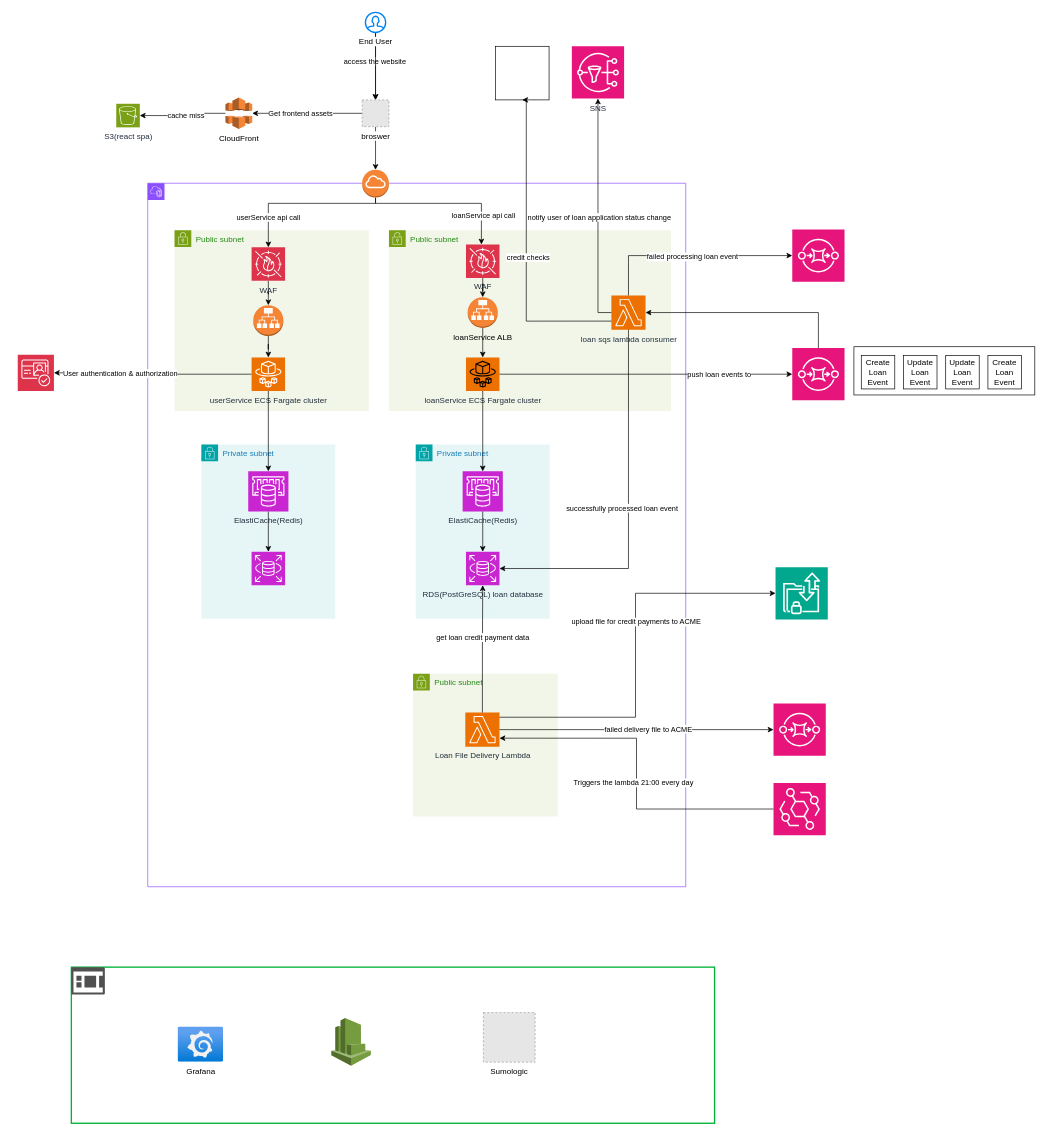
Image size: 1047x1135. Some labels were removed from this diagram. Grey dashed boxes stand in for pictures. Each missing label, with the box of its shape:
ACME API: (495, 46, 549, 100)
ACME SFTP server: (775, 566, 828, 619)
AWS Cognito: (17, 354, 54, 391)
CloudWatch: (331, 1017, 371, 1066)
EventBridge Rule: (773, 782, 826, 835)
Internet Gateway: (361, 169, 389, 198)
loan file delivery dead letter queue: (773, 703, 826, 756)
loan SQS dead letter queue: (792, 229, 845, 282)
loan SQS queue: (792, 347, 845, 400)
Observability: (71, 967, 105, 994)
RDS(PostGreSQL) user database: (251, 551, 285, 585)
userService ALB: (253, 305, 283, 336)
VPC: (147, 183, 686, 887)
